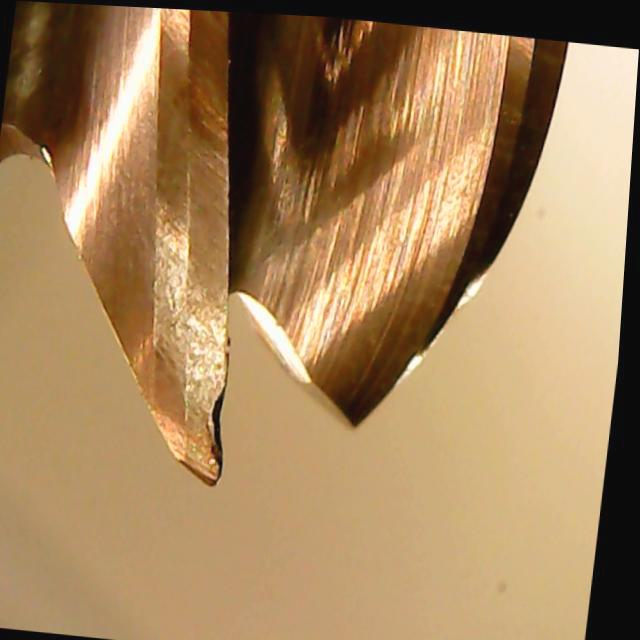Tool-wear-class-1: (127, 206, 271, 491)
